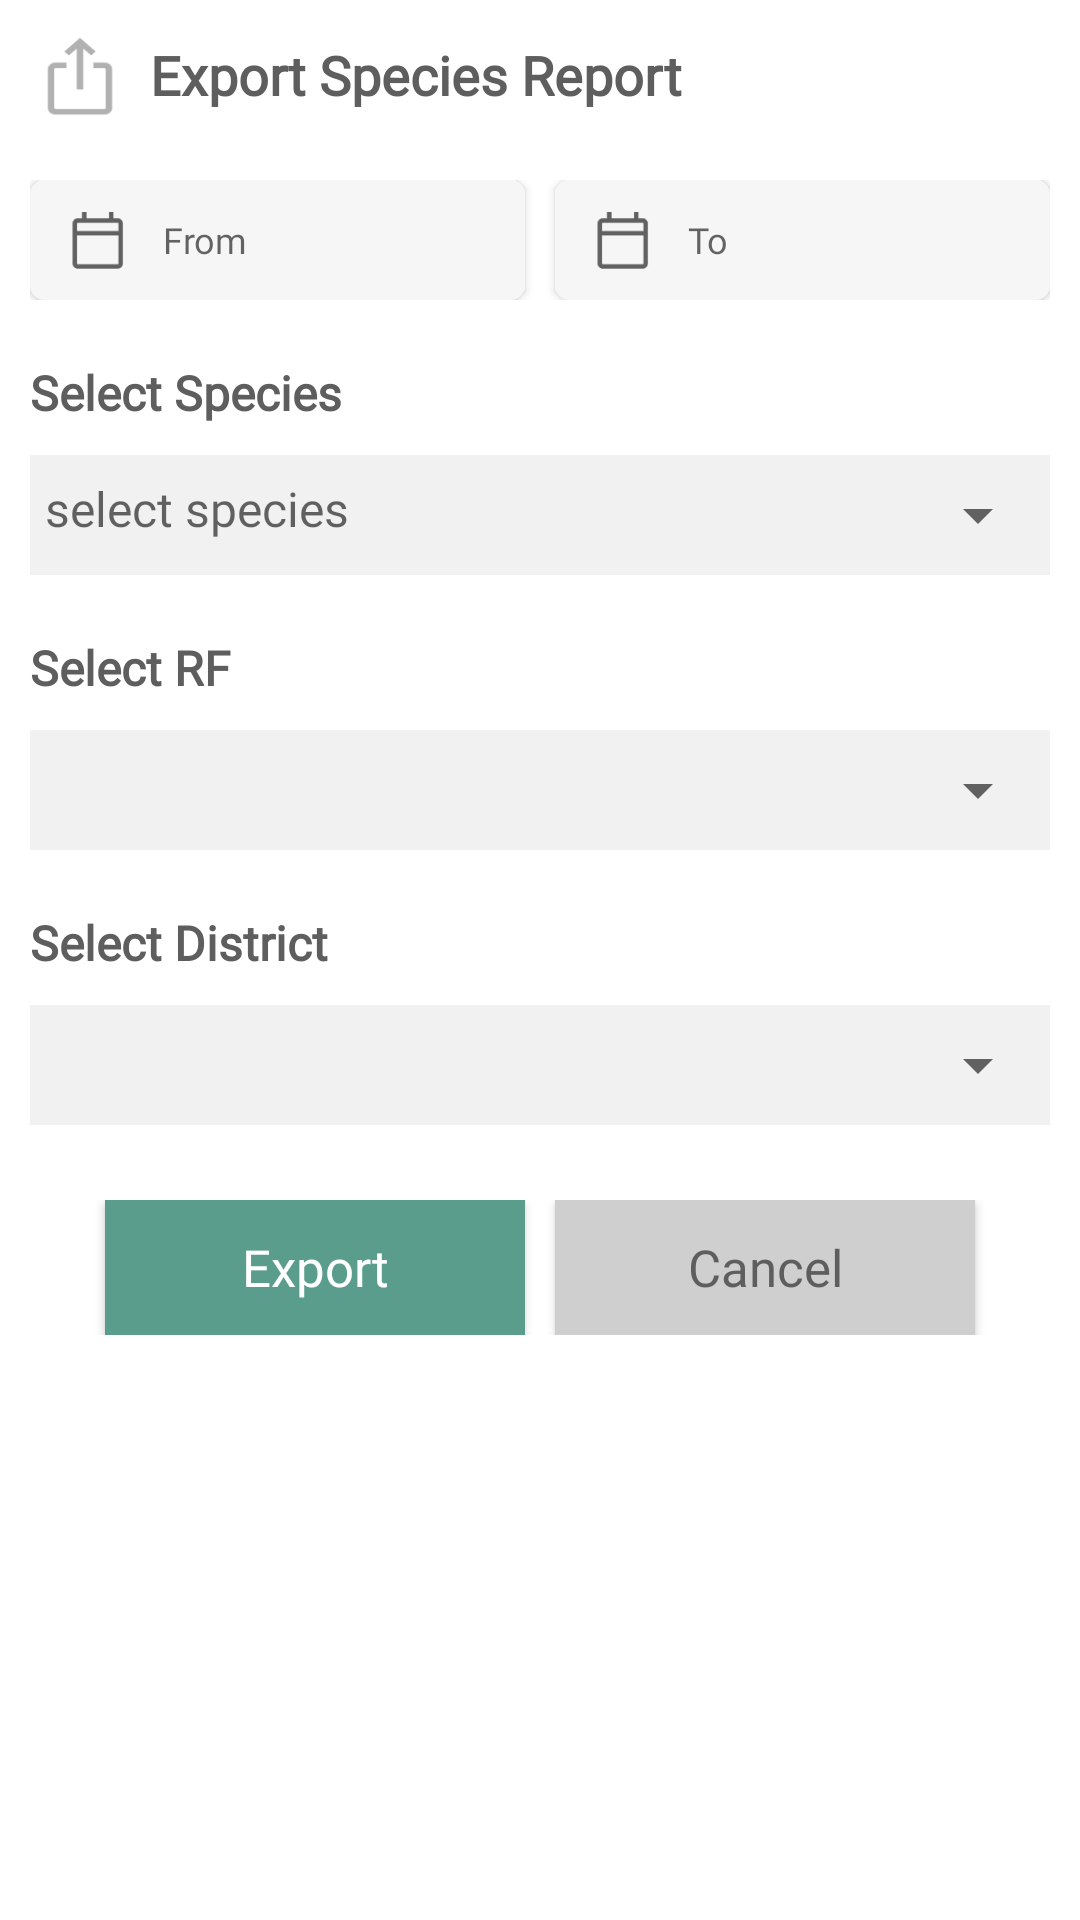

Icons on this 1080 × 1920 Android screen, each with the point to tap as (x=x, y=y):
calendar: (x=97, y=240), (x=622, y=240)
share: (x=80, y=76)
